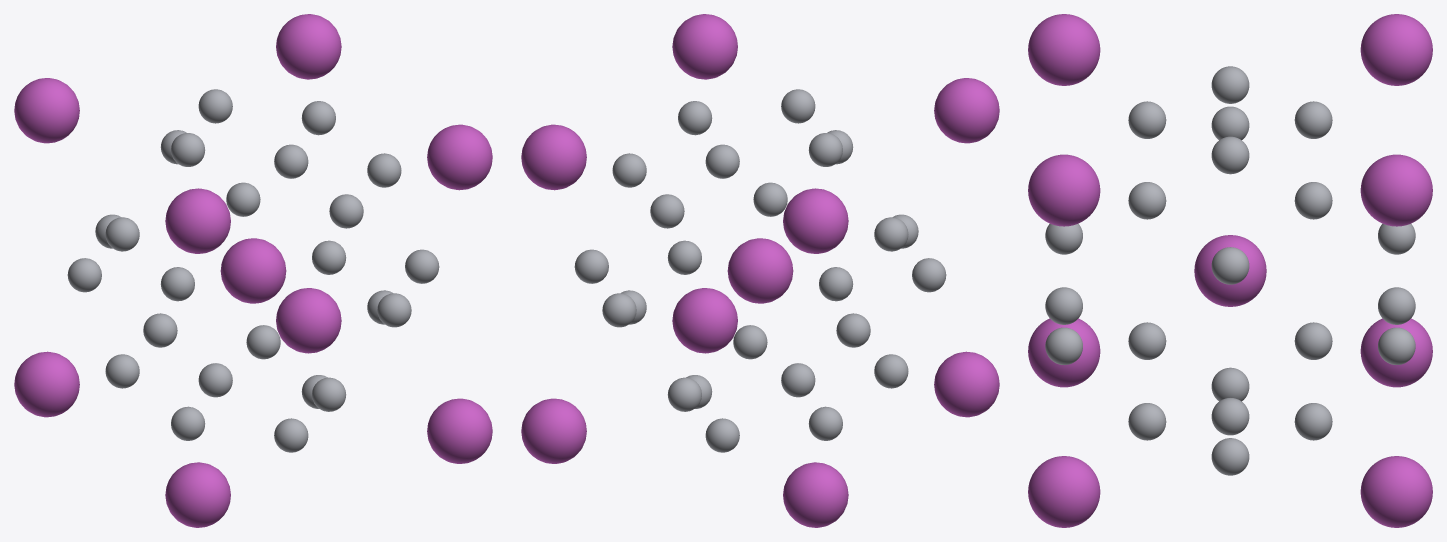
Rendered from alpha-AgI.fbx.
3 renders of one model, left to right at view 1: azimuth 30°, elevation 25°; view 2: azimuth 150°, elevation 25°; view 3: azimuth 270°, elevation 25°, orthographic. The views are drawn at different scales.
Visible parts, largest first — view 1: atom1_IndexedFaceSet.003, atom1_IndexedFaceSet.004, atom1_IndexedFaceSet.008, atom1_IndexedFaceSet.001, atom1_IndexedFaceSet.006, atom1_IndexedFaceSet, atom1_IndexedFaceSet.002, atom1_IndexedFaceSet.005, atom1_IndexedFaceSet.007, atom0_IndexedFaceSet.009, atom0_IndexedFaceSet.010, atom0_IndexedFaceSet.012 (+17 smaller); view 2: atom1_IndexedFaceSet.002, atom1_IndexedFaceSet.005, atom1_IndexedFaceSet.008, atom1_IndexedFaceSet, atom1_IndexedFaceSet.007, atom1_IndexedFaceSet.001, atom1_IndexedFaceSet.003, atom1_IndexedFaceSet.004, atom1_IndexedFaceSet.006, atom0_IndexedFaceSet.008, atom0_IndexedFaceSet.011, atom0_IndexedFaceSet.012 (+17 smaller); view 3: atom1_IndexedFaceSet.006, atom1_IndexedFaceSet.007, atom1_IndexedFaceSet.002, atom1_IndexedFaceSet.003, atom1_IndexedFaceSet.004, atom1_IndexedFaceSet.005, atom1_IndexedFaceSet.008, atom1_IndexedFaceSet, atom1_IndexedFaceSet.001, atom0_IndexedFaceSet.015, atom0_IndexedFaceSet.001, atom0_IndexedFaceSet.002 (+18 smaller).
Boxes of the visible parts, x1=… form: atom1_IndexedFaceSet.003: x1=165, y1=188, x2=230, y2=253; atom1_IndexedFaceSet.004: x1=276, y1=288, x2=341, y2=353; atom1_IndexedFaceSet.008: x1=220, y1=238, x2=286, y2=303; atom1_IndexedFaceSet.001: x1=165, y1=462, x2=230, y2=527; atom1_IndexedFaceSet.006: x1=276, y1=14, x2=341, y2=79; atom1_IndexedFaceSet: x1=14, y1=351, x2=79, y2=417; atom1_IndexedFaceSet.002: x1=14, y1=78, x2=79, y2=143; atom1_IndexedFaceSet.005: x1=427, y1=398, x2=492, y2=463; atom1_IndexedFaceSet.007: x1=427, y1=124, x2=492, y2=190; atom0_IndexedFaceSet.009: x1=329, y1=194, x2=363, y2=228; atom0_IndexedFaceSet.010: x1=143, y1=313, x2=177, y2=347; atom0_IndexedFaceSet.012: x1=105, y1=354, x2=139, y2=388; atom1_IndexedFaceSet.002: x1=783, y1=188, x2=848, y2=253; atom1_IndexedFaceSet.005: x1=672, y1=288, x2=737, y2=353; atom1_IndexedFaceSet.008: x1=727, y1=238, x2=793, y2=303; atom1_IndexedFaceSet: x1=783, y1=462, x2=848, y2=527; atom1_IndexedFaceSet.007: x1=672, y1=14, x2=737, y2=79; atom1_IndexedFaceSet.001: x1=934, y1=351, x2=999, y2=417; atom1_IndexedFaceSet.003: x1=934, y1=78, x2=999, y2=143; atom1_IndexedFaceSet.004: x1=521, y1=398, x2=586, y2=463; atom1_IndexedFaceSet.006: x1=521, y1=124, x2=586, y2=190; atom0_IndexedFaceSet.008: x1=836, y1=313, x2=870, y2=347; atom0_IndexedFaceSet.011: x1=650, y1=194, x2=684, y2=228; atom0_IndexedFaceSet.012: x1=874, y1=354, x2=908, y2=388; atom1_IndexedFaceSet.006: x1=1360, y1=154, x2=1432, y2=226; atom1_IndexedFaceSet.007: x1=1028, y1=154, x2=1100, y2=226; atom1_IndexedFaceSet.002: x1=1360, y1=14, x2=1432, y2=85; atom1_IndexedFaceSet.003: x1=1028, y1=14, x2=1100, y2=85; atom1_IndexedFaceSet.004: x1=1360, y1=456, x2=1432, y2=527; atom1_IndexedFaceSet.005: x1=1028, y1=456, x2=1100, y2=527; atom1_IndexedFaceSet.008: x1=1194, y1=235, x2=1266, y2=306; atom1_IndexedFaceSet: x1=1360, y1=318, x2=1432, y2=387; atom1_IndexedFaceSet.001: x1=1028, y1=318, x2=1100, y2=387; atom0_IndexedFaceSet.015: x1=1211, y1=247, x2=1249, y2=284; atom0_IndexedFaceSet.001: x1=1211, y1=66, x2=1249, y2=103; atom0_IndexedFaceSet.002: x1=1211, y1=438, x2=1249, y2=475.
Size of the model in its own units: 616 by 616 by 616.
